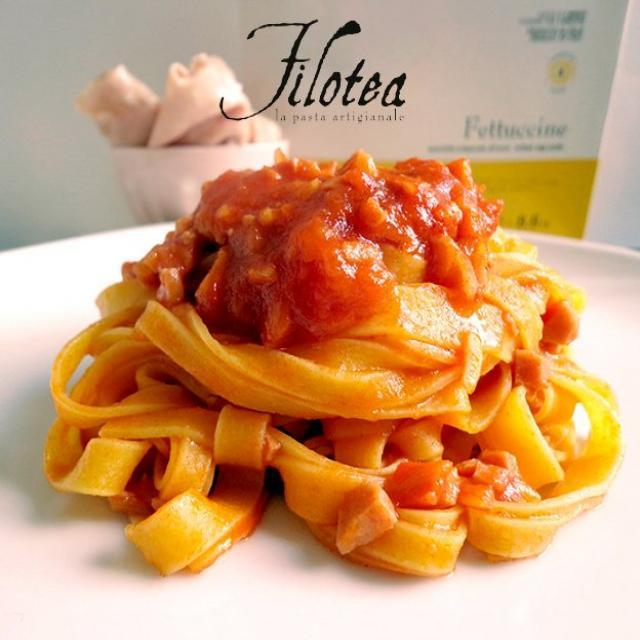Pasta al ragu: (61, 127, 629, 589)
